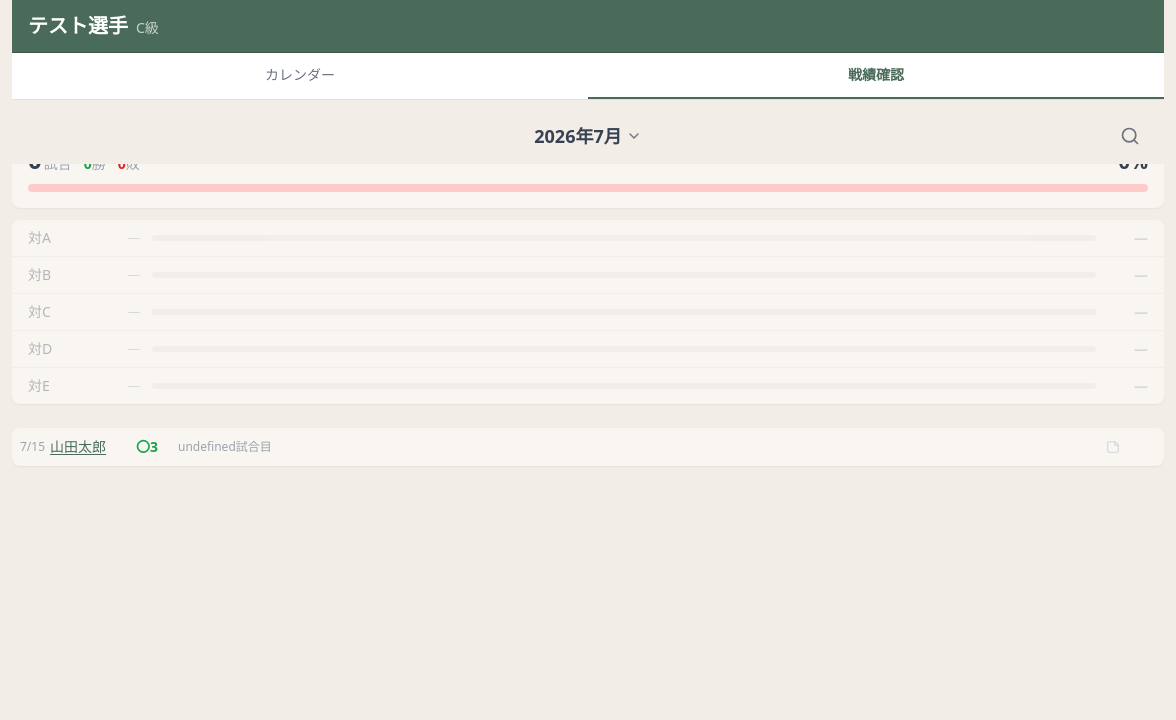
Scenario: MatchList - 2タブ（戦績確認 / カレンダー） › AC-2: カレンダータブ押下で ?view=calendar になり MatchCalendar が描画される
The image size is (1176, 720).
Click the button "カレンダー" at (300, 76), box [12, 53, 588, 99]
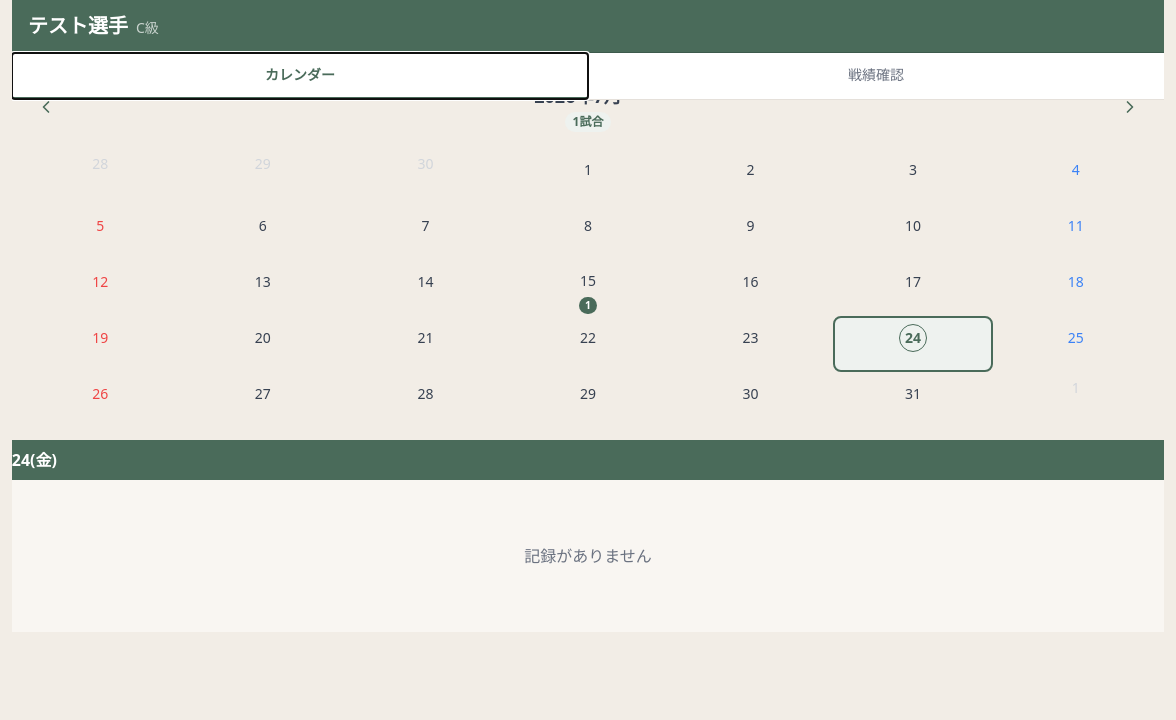
Expected: the button named "前の月" is shown, [28, 89, 64, 125]
Expected: the button named "次の月" is shown, [1112, 89, 1148, 125]
